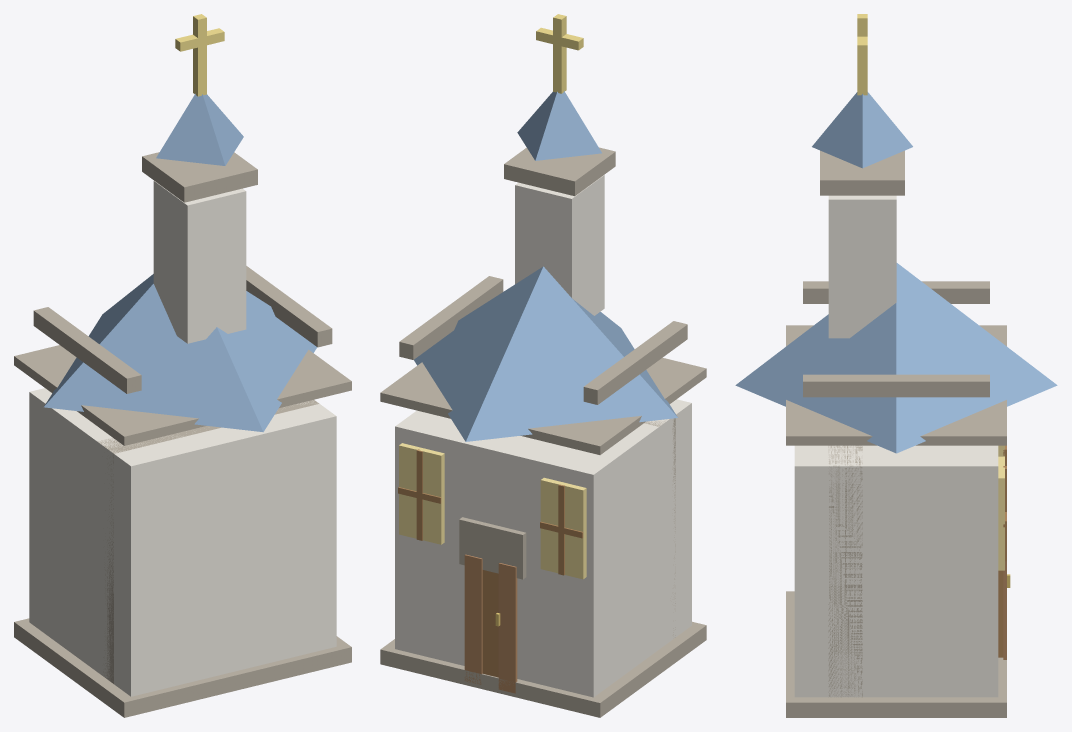
Rendered from chapel.glb.
3 renders of one model, left to right at view 1: azimuth 30°, elevation 25°; view 2: azimuth 150°, elevation 25°; view 3: azimuth 270°, elevation 25°, orthographic. The views are drawn at different scales.
Parts seen in each view (by area): view 1: chapel_root; view 2: chapel_root; view 3: chapel_root.
Part boxes in pixels (box(x1,y1,x2,y2)): chapel_root: box(14, 14, 351, 717); chapel_root: box(380, 14, 706, 717); chapel_root: box(735, 14, 1057, 717).
Size of the model in its own units: 2.26 by 5 by 2.26.
